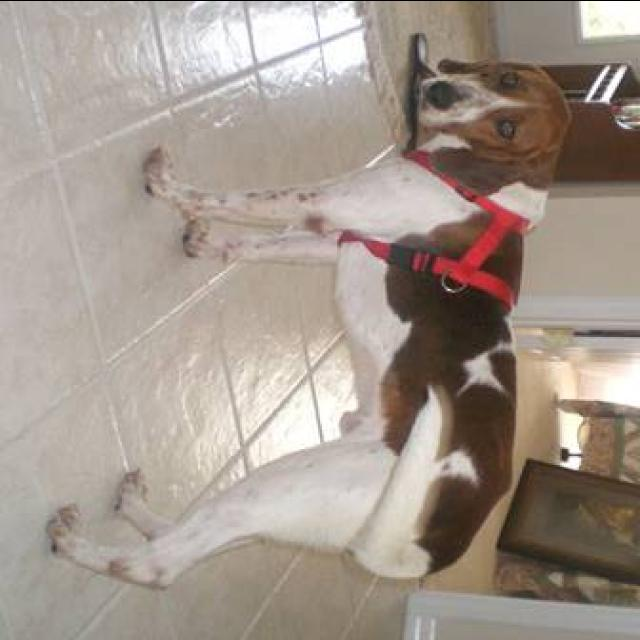dog: (48, 45, 580, 591)
